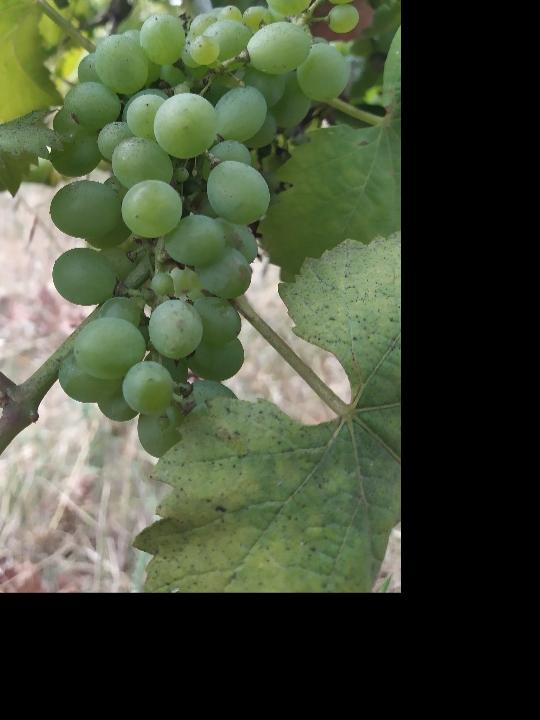grape: (45, 0, 371, 461)
